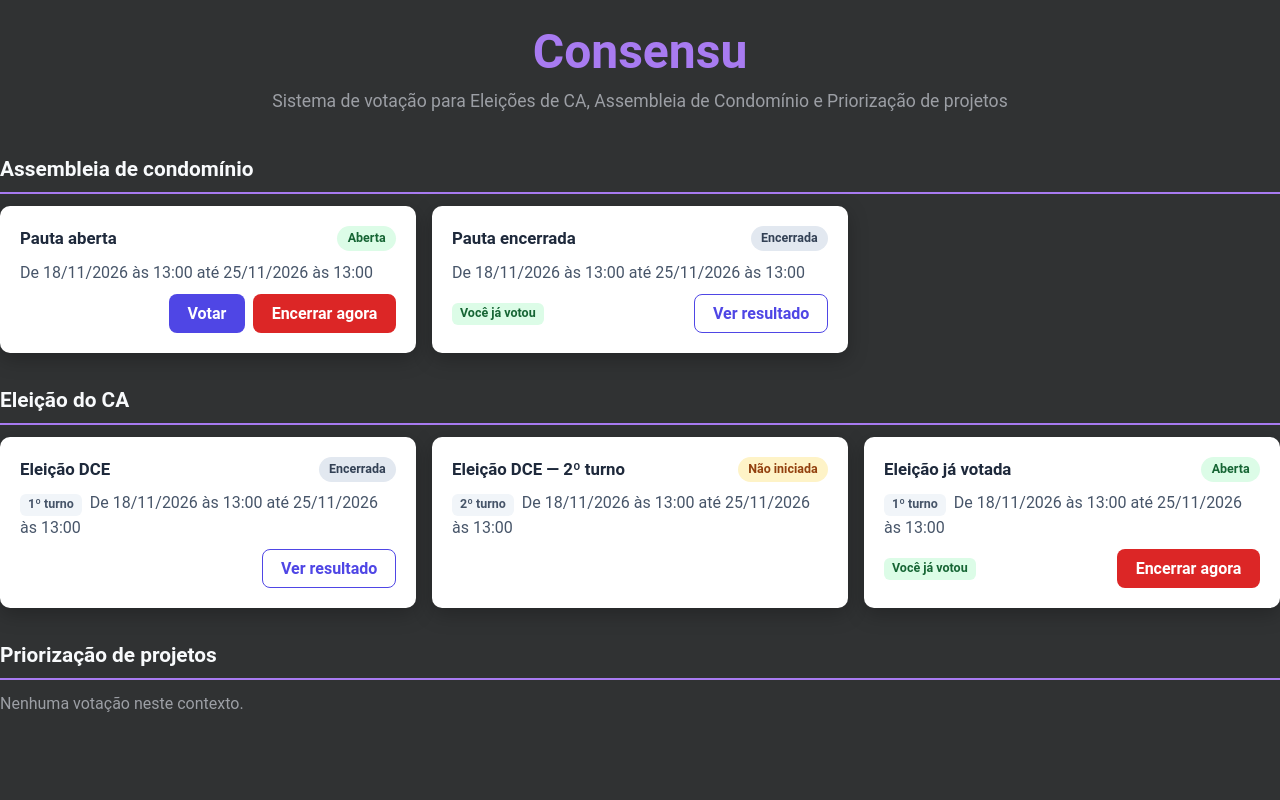
Test case: Home (painel) › mostra o erro do servidor ao encerrar
Expected: the element "Eleição do CA" is shown, [0,385,1279,608]
Click the button "Encerrar agora" next to "Votar" at (324, 314), box [253,294,396,333]
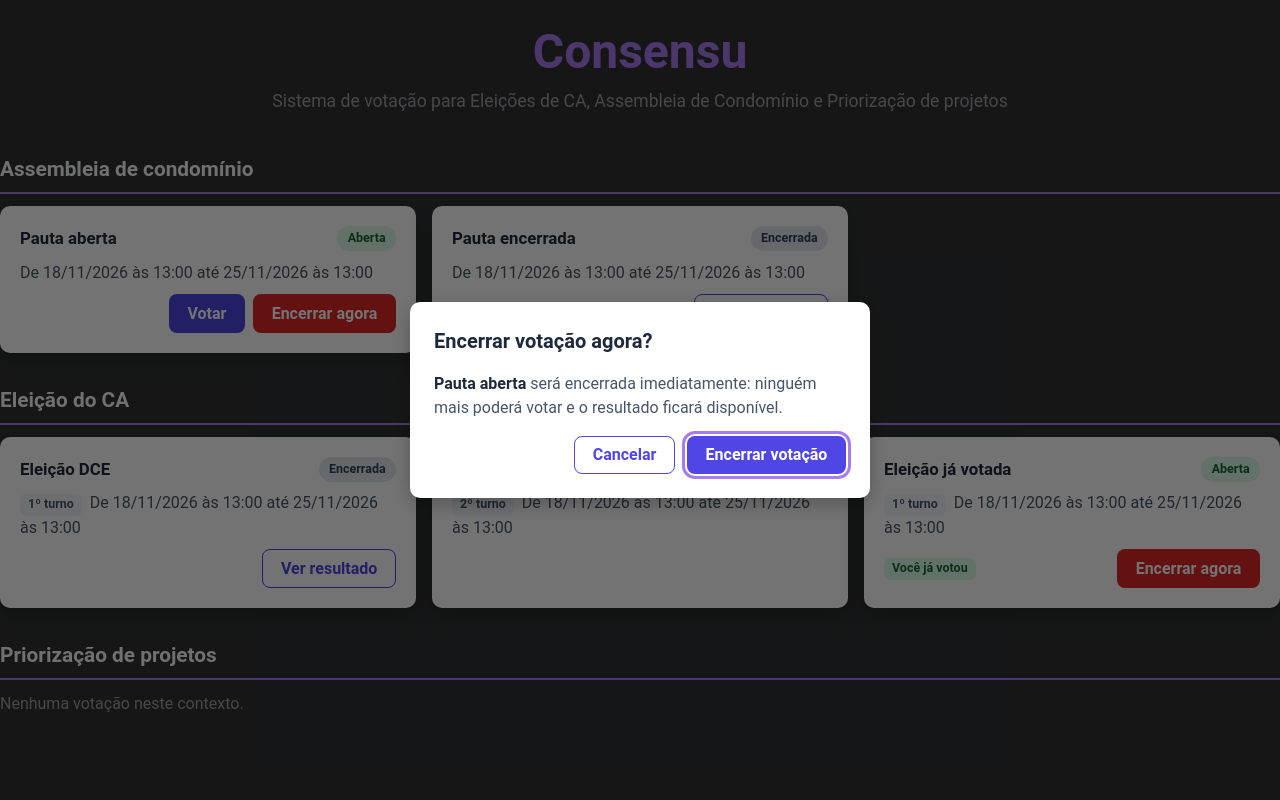
Click the button "Encerrar votação" at (766, 455), box [687,436,846,474]
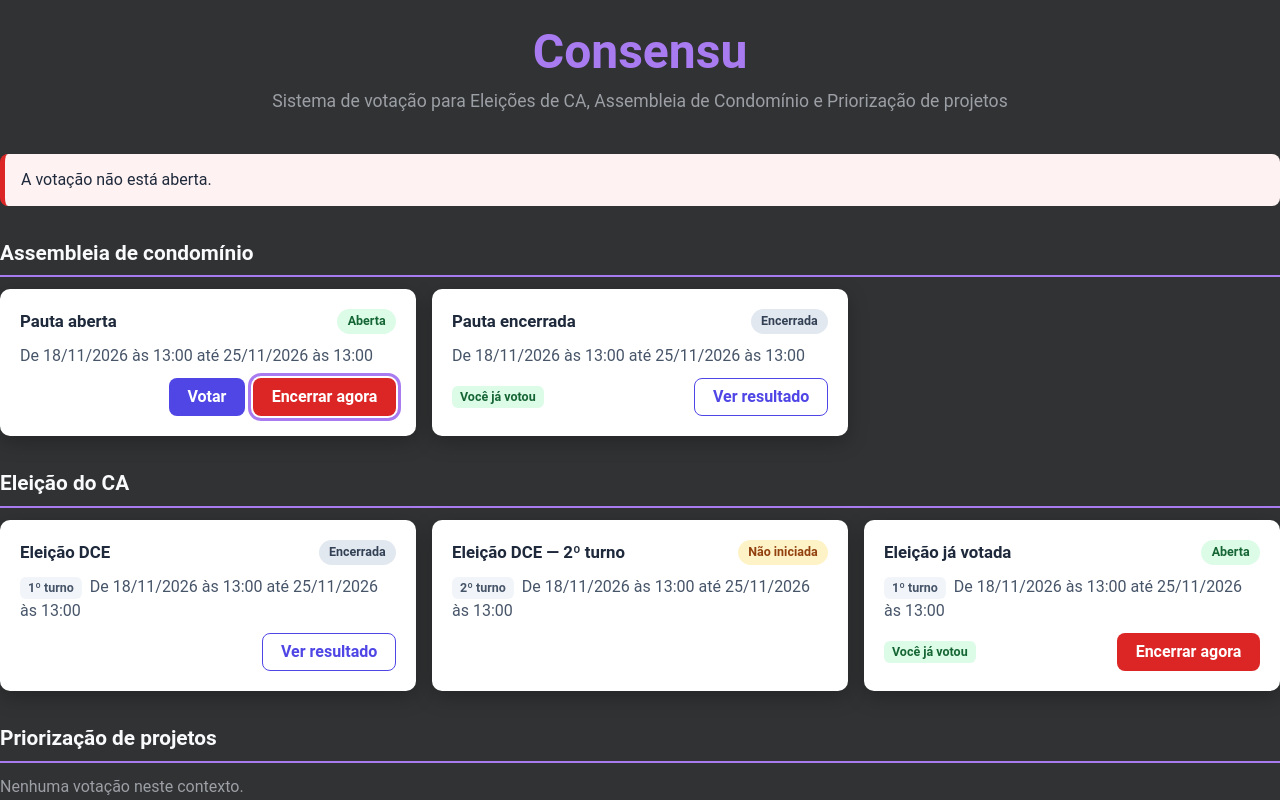
Now the message reads "A votação não está aberta.", box [21,170,212,189]
